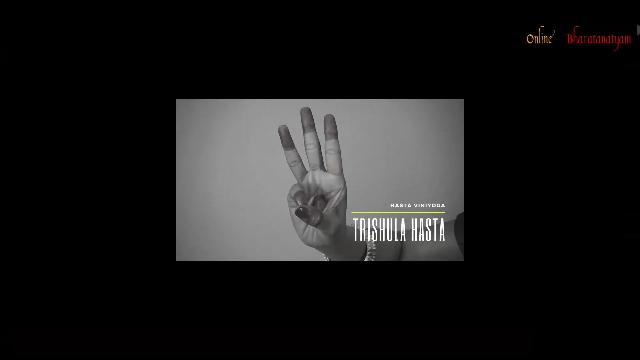trishool: (260, 104, 366, 254)
